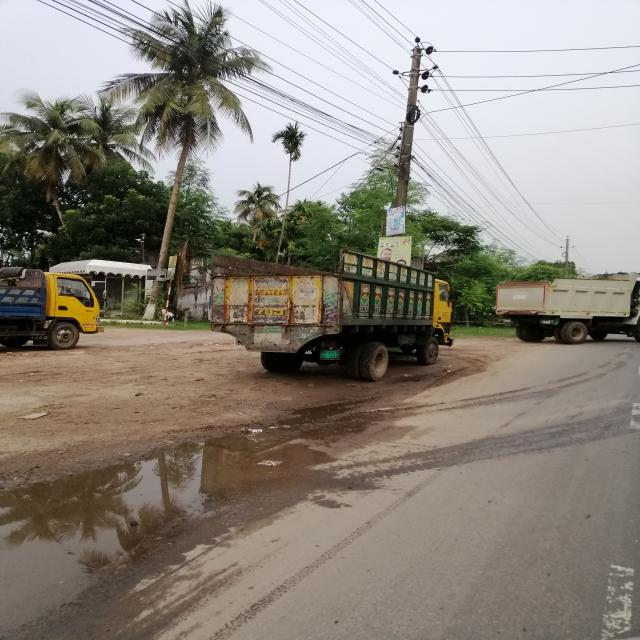Truck: (204, 247, 457, 383)
